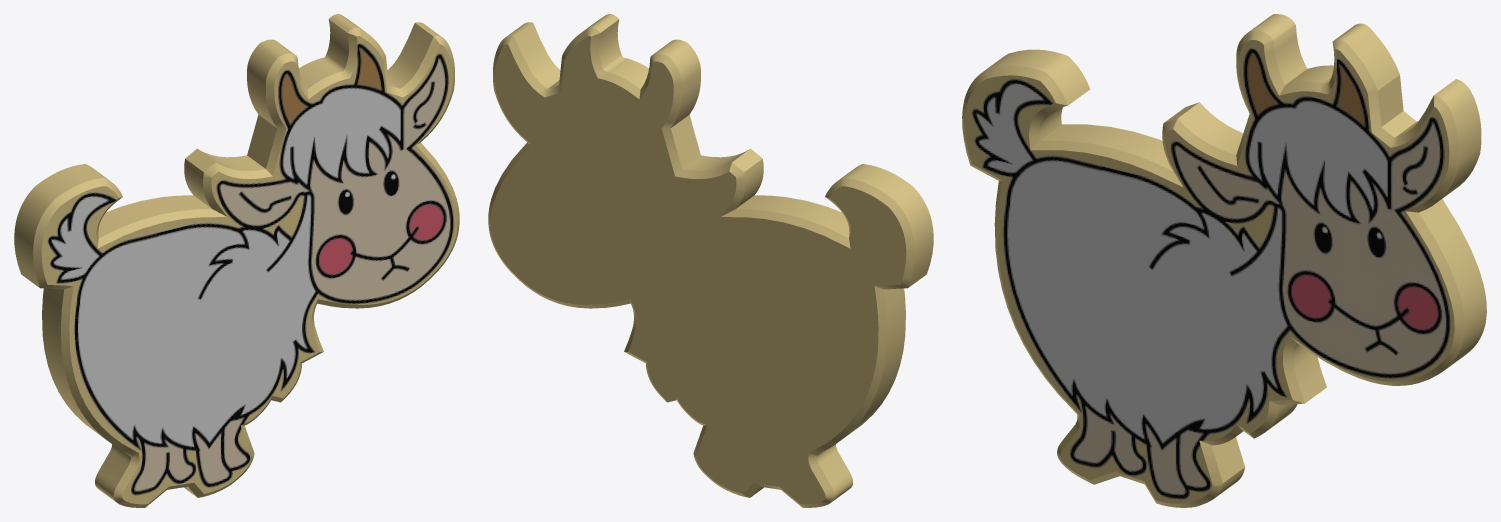
3 renders of one model, left to right at view 1: azimuth 30°, elevation 25°; view 2: azimuth 150°, elevation 25°; view 3: azimuth 330°, elevation 25°, orthographic. The views are drawn at different scales.
Visible parts, largest first — view 1: Path-Mat, Path-bg; view 2: Path-bg; view 3: Path-Mat, Path-bg.
Boxes of the visible parts, x1,y1,x2,y2 form: Path-Mat: (41,36,457,504); Path-bg: (14,14,459,507); Path-bg: (488,14,933,507); Path-Mat: (964,40,1454,503); Path-bg: (962,14,1486,507).
Bounding box in the file's own units: 981 × 949 × 100.
2 materials, 2 textured.
